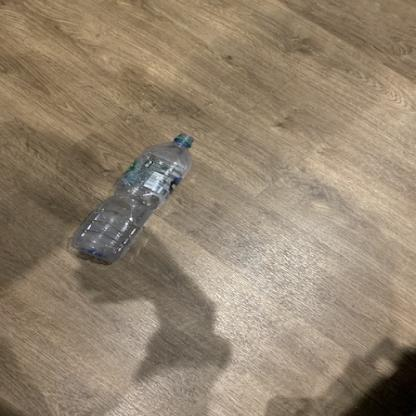trash: (68, 132, 196, 266)
